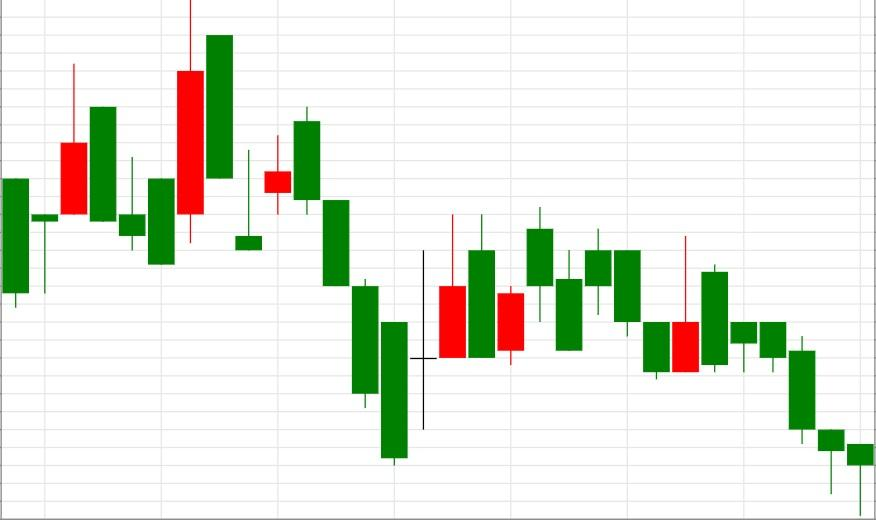three_black_crows_fall: (235, 107, 380, 407)
